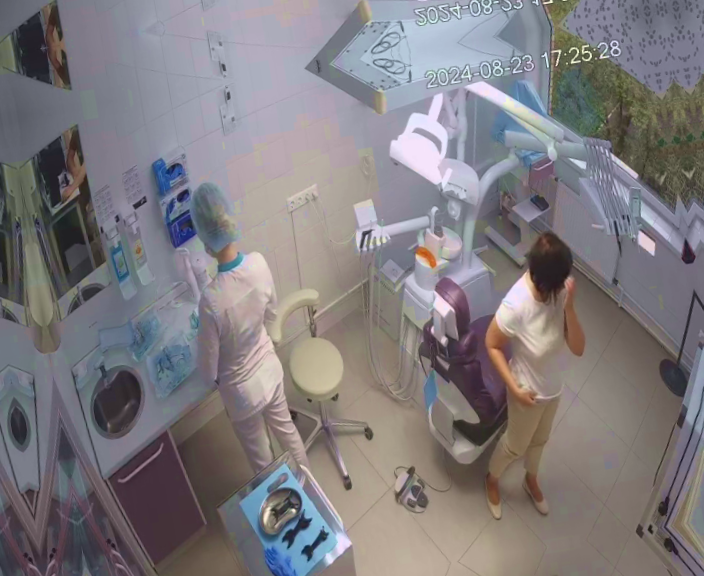Empty: (402, 252, 569, 478)
